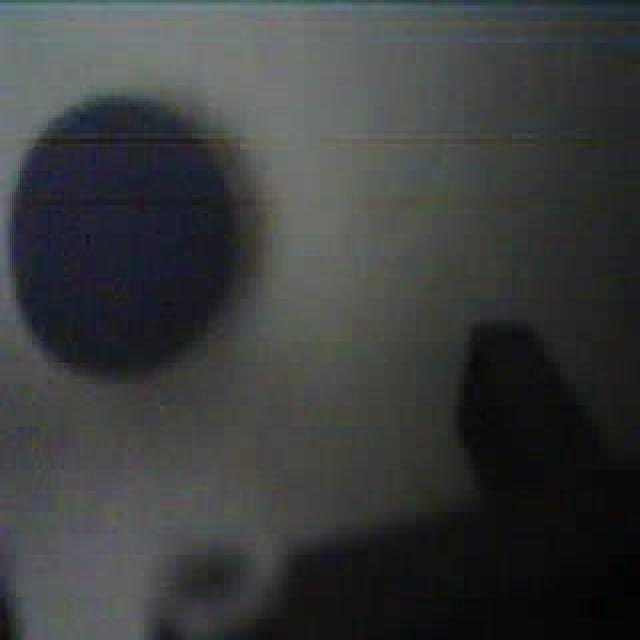blue_ball: (8, 91, 244, 376)
